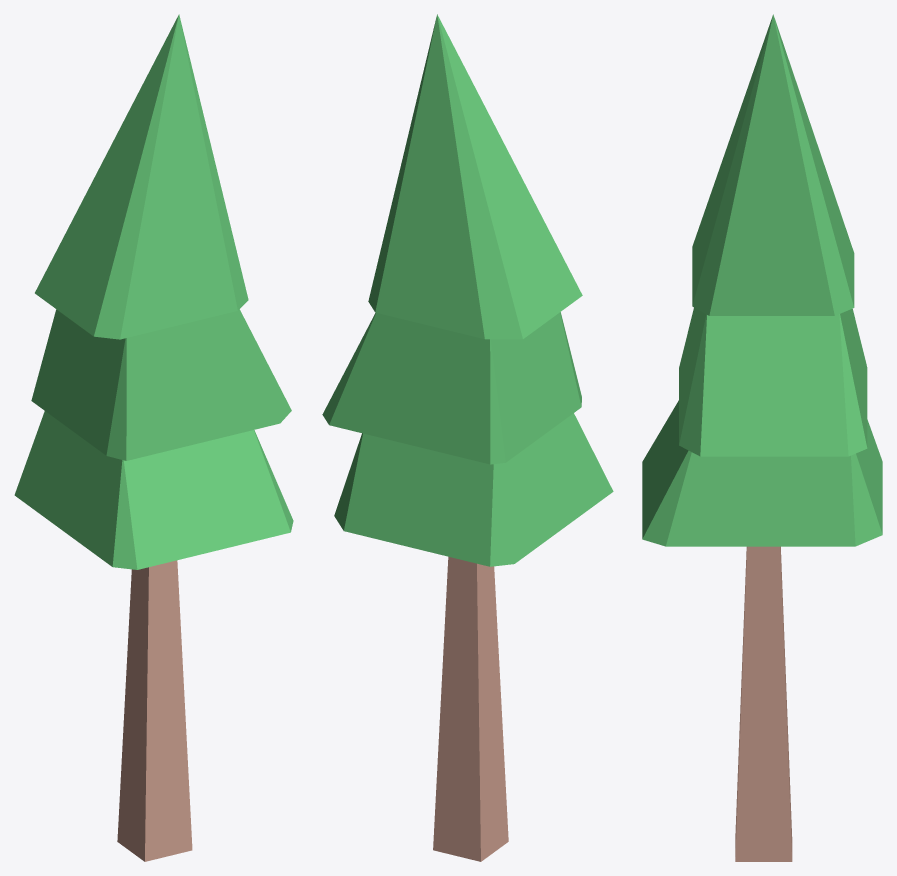
Rendered from n_tree_pineTallA.glb.
3 renders of one model, left to right at view 1: azimuth 30°, elevation 25°; view 2: azimuth 150°, elevation 25°; view 3: azimuth 270°, elevation 25°, orthographic. The views are drawn at different scales.
Parts seen in each view (by area): view 1: tree_pineTallA; view 2: tree_pineTallA; view 3: tree_pineTallA.
Part boxes in pixels (<box>): tree_pineTallA: <box>14,14,293,861</box>; tree_pineTallA: <box>322,14,613,861</box>; tree_pineTallA: <box>642,14,882,861</box>.
Bounding box in the file's own units: 2.02 × 8 × 2.05.
